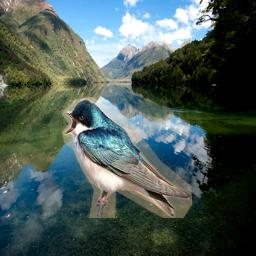Swallow: (62, 97, 192, 218)
